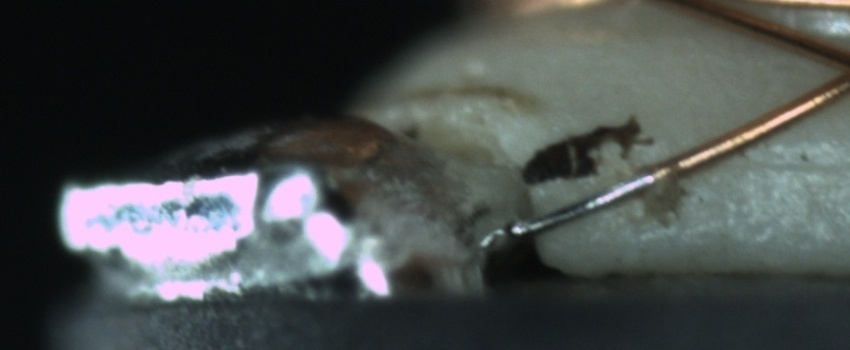CL: (808, 38, 850, 105)
DL: (731, 132, 850, 197)
TS: (498, 168, 664, 241)
TTCW: (496, 144, 712, 245)
